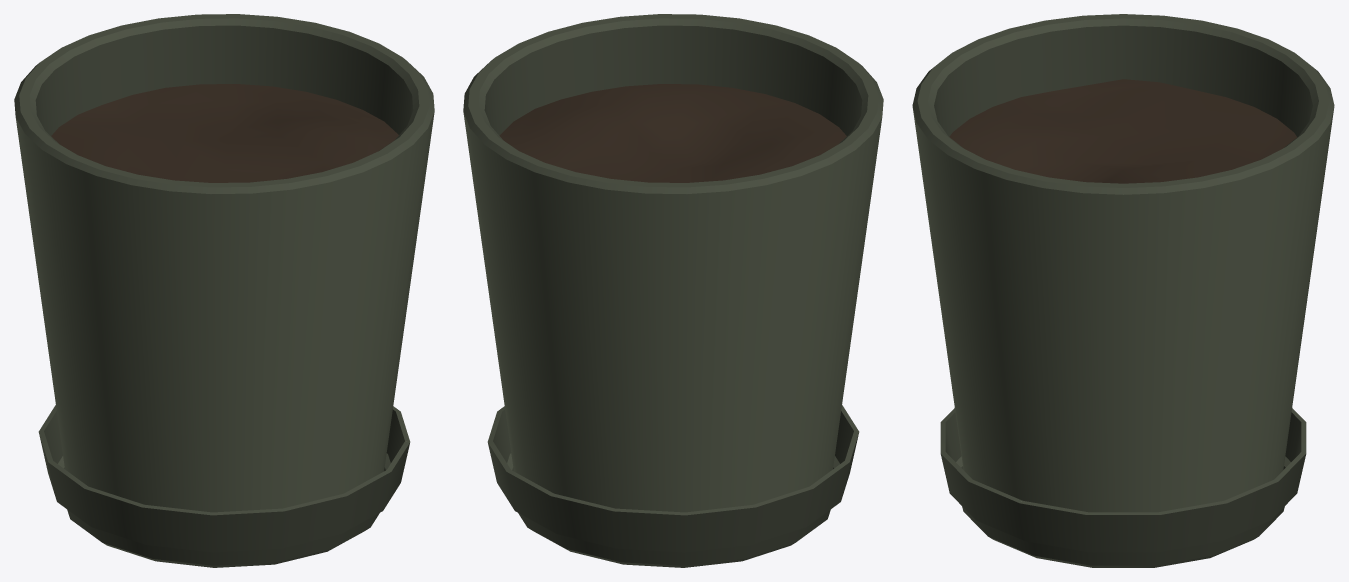
File: GreenPot_WithSaucerS.glb
3 renders of one model, left to right at view 1: azimuth 30°, elevation 25°; view 2: azimuth 150°, elevation 25°; view 3: azimuth 270°, elevation 25°, orthographic.
Visible parts, largest first — view 1: Green Pot w/ Saucer S; view 2: Green Pot w/ Saucer S; view 3: Green Pot w/ Saucer S.
Boxes of the visible parts, left/top/right/bottom form: Green Pot w/ Saucer S: left=14, top=14, right=434, bottom=567; Green Pot w/ Saucer S: left=463, top=14, right=883, bottom=567; Green Pot w/ Saucer S: left=912, top=14, right=1334, bottom=567.
Bounding box in the file's own units: 0.152 × 0.1598 × 0.152.
1 material, 1 textured.
